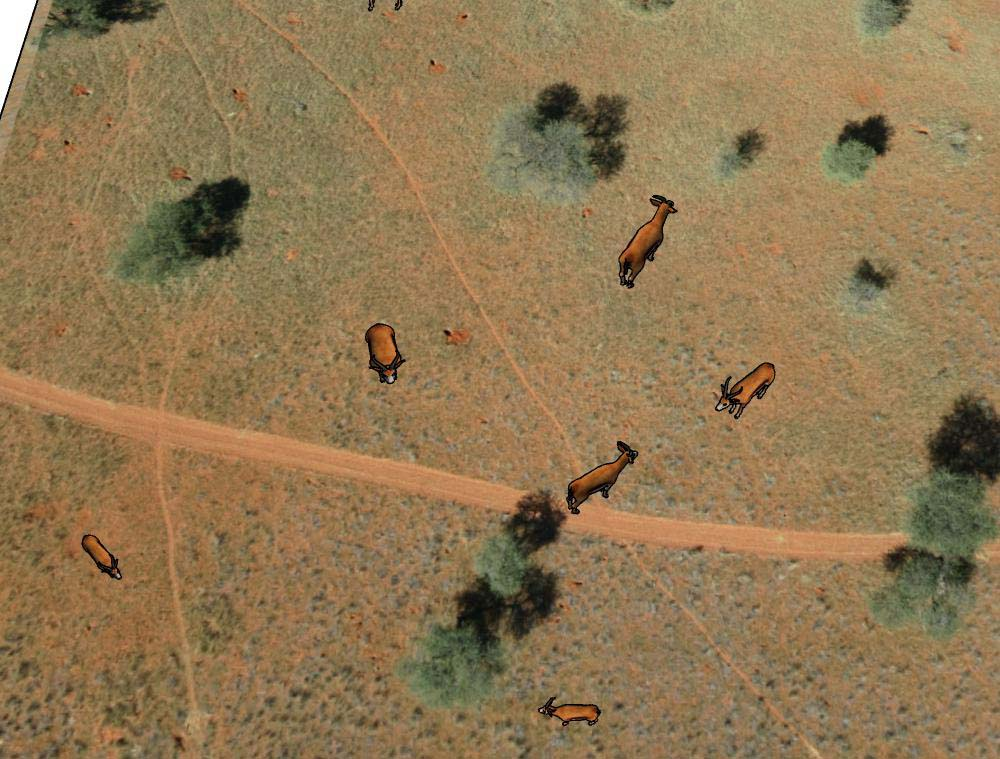springbok: (614, 191, 677, 291), (565, 436, 640, 518), (716, 358, 778, 419), (360, 321, 405, 387), (78, 527, 129, 584), (537, 695, 603, 736)
